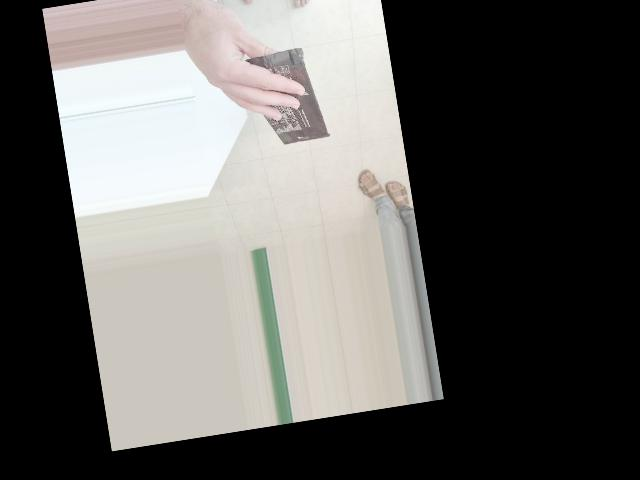chocolate: (287, 71, 402, 175)
